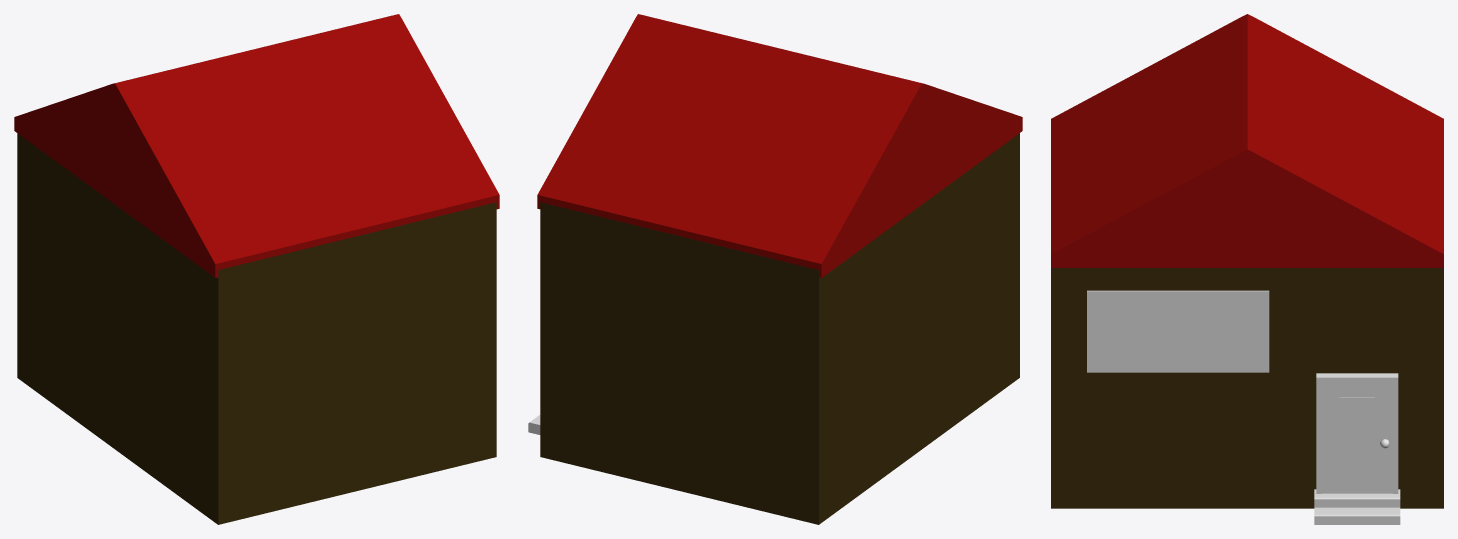
Rendered from Huis5.fbx.
3 views of the same model, side by side, from view 1: azimuth 30°, elevation 25°; view 2: azimuth 150°, elevation 25°; view 3: azimuth 270°, elevation 25° (orthographic). The views are drawn at different scales.
Visible parts, largest first — view 1: Cube.009, Cube.011; view 2: Cube.009, Cube.011; view 3: Cube.011, Cube.009, Plane.002, Cube.014, Plane.003, Cube.013, Cube.012.
Boxes of the visible parts, x1,y1,x2,y2 form: Cube.009: [17, 133, 496, 524]; Cube.011: [14, 14, 499, 277]; Cube.009: [540, 133, 1019, 524]; Cube.011: [537, 14, 1022, 277]; Cube.011: [1051, 14, 1443, 267]; Cube.009: [1051, 268, 1443, 508]; Plane.002: [1087, 290, 1269, 372]; Cube.014: [1321, 382, 1392, 493]; Plane.003: [1339, 397, 1374, 484]; Cube.013: [1314, 489, 1400, 524]; Cube.012: [1316, 373, 1398, 493].
Bounding box in the file's own units: 181 × 202 × 200.
